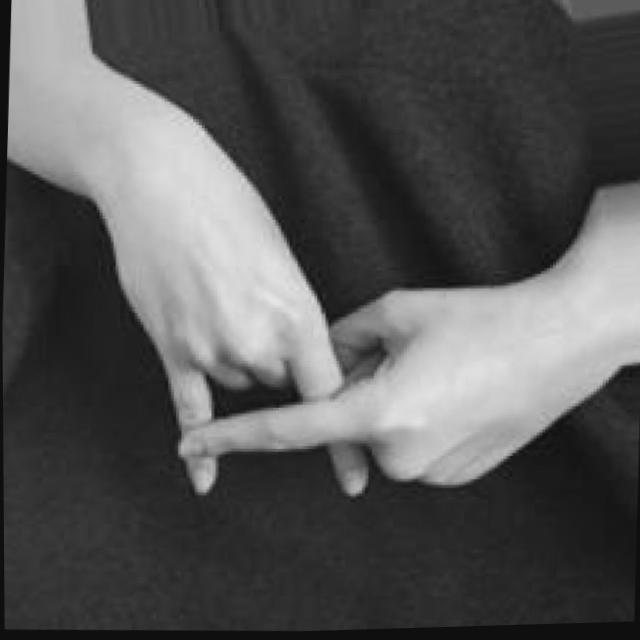H: (92, 142, 568, 515)
